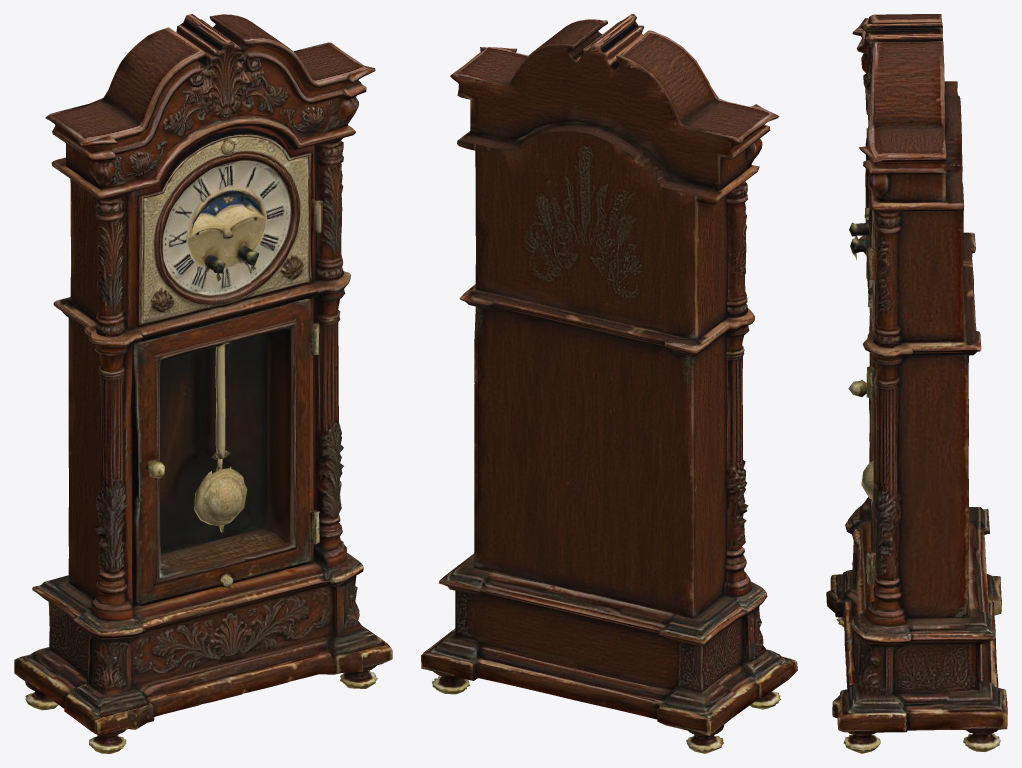
File: prop_s1_grandfather_clock.glb
3 views of the same model, side by side, from view 1: azimuth 30°, elevation 25°; view 2: azimuth 150°, elevation 25°; view 3: azimuth 270°, elevation 25° (orthographic).
Visible parts, largest first — view 1: tripo_node_021d44ba-255e-4f7f-afd0-2d24be1f0136; view 2: tripo_node_021d44ba-255e-4f7f-afd0-2d24be1f0136; view 3: tripo_node_021d44ba-255e-4f7f-afd0-2d24be1f0136.
Boxes of the visible parts, left/top/right/bottom form: tripo_node_021d44ba-255e-4f7f-afd0-2d24be1f0136: left=14, top=14, right=392, bottom=753; tripo_node_021d44ba-255e-4f7f-afd0-2d24be1f0136: left=421, top=14, right=797, bottom=753; tripo_node_021d44ba-255e-4f7f-afd0-2d24be1f0136: left=826, top=14, right=1007, bottom=753.
Bounding box in the file's own units: 0.4674 × 1 × 0.2477.
Materials: 1 (1 with a texture image).
